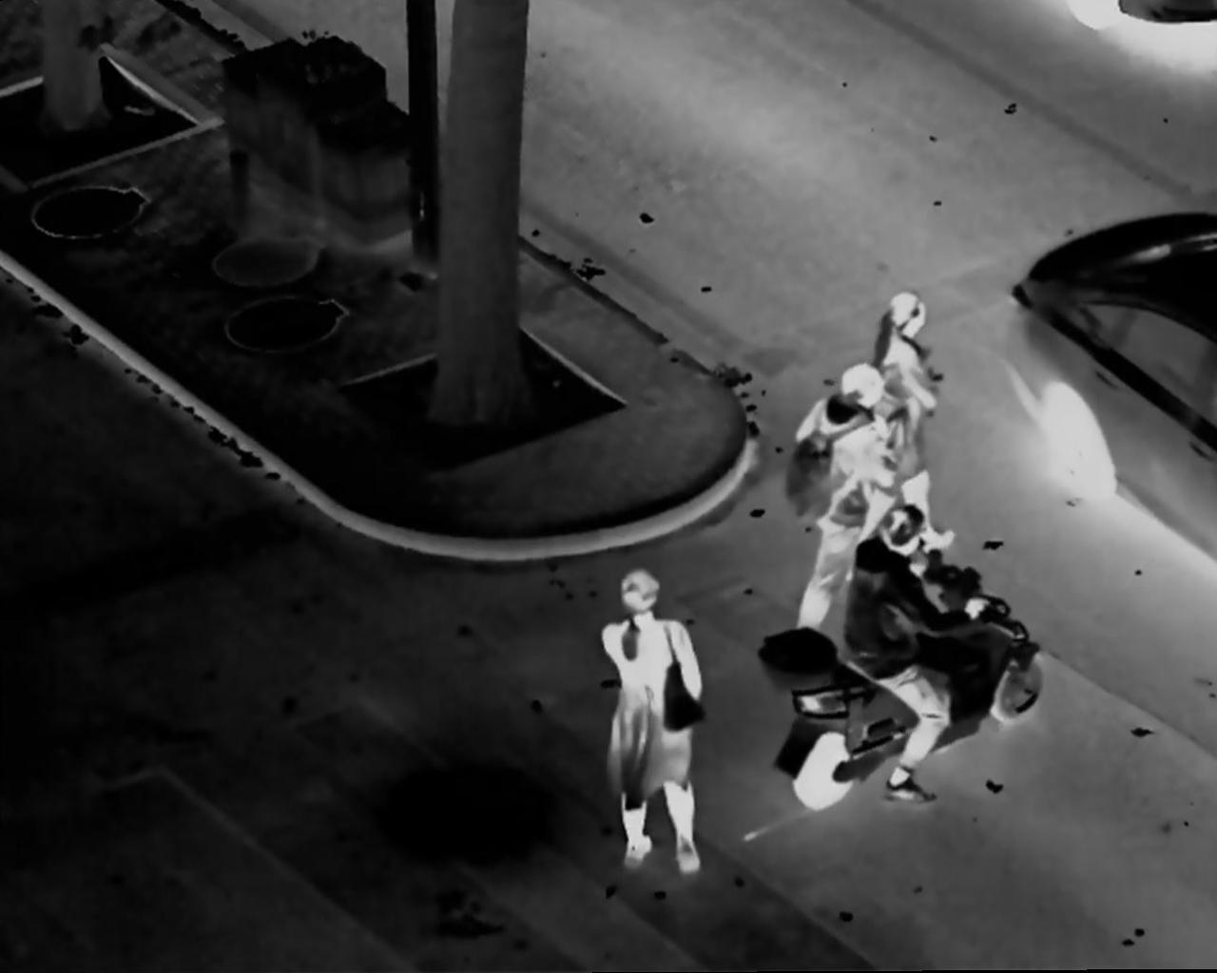person: (849, 510, 996, 812), (600, 562, 707, 880), (792, 365, 897, 651), (870, 289, 943, 546)
